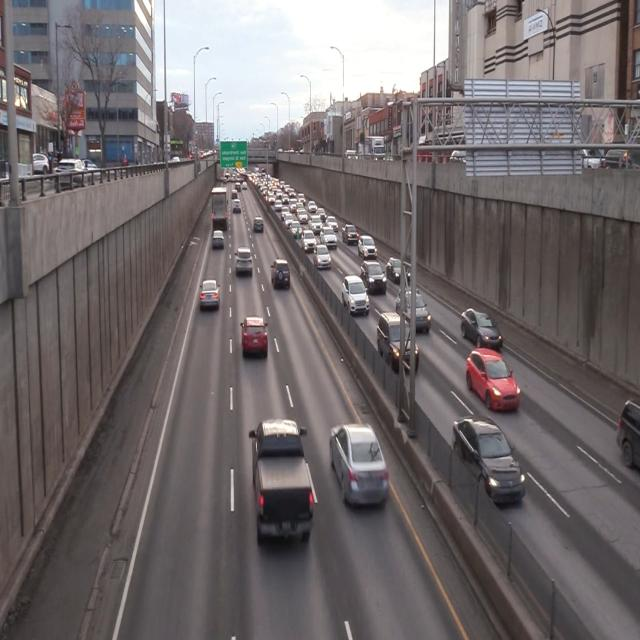Car: (246, 416, 314, 542), (450, 418, 521, 508), (329, 420, 388, 512), (376, 309, 421, 380), (466, 350, 518, 410), (458, 308, 500, 355), (394, 284, 432, 333), (238, 317, 270, 363), (341, 274, 370, 320), (196, 278, 222, 315), (230, 247, 256, 281), (268, 258, 292, 293)
